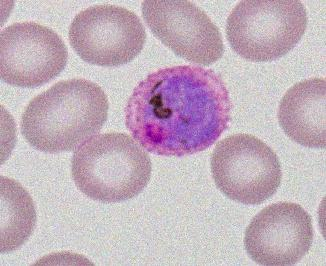Infected: (124, 64, 232, 155)
Uninfected: (22, 79, 108, 151), (71, 133, 152, 202), (142, 0, 223, 64), (212, 134, 281, 205), (227, 0, 307, 61), (69, 5, 146, 66), (0, 21, 67, 87), (245, 202, 313, 266), (278, 78, 326, 147), (0, 177, 36, 253)
